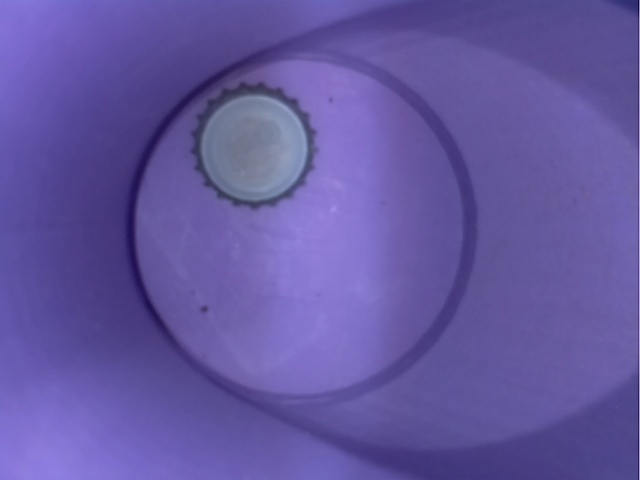capsule: (174, 77, 329, 211)
